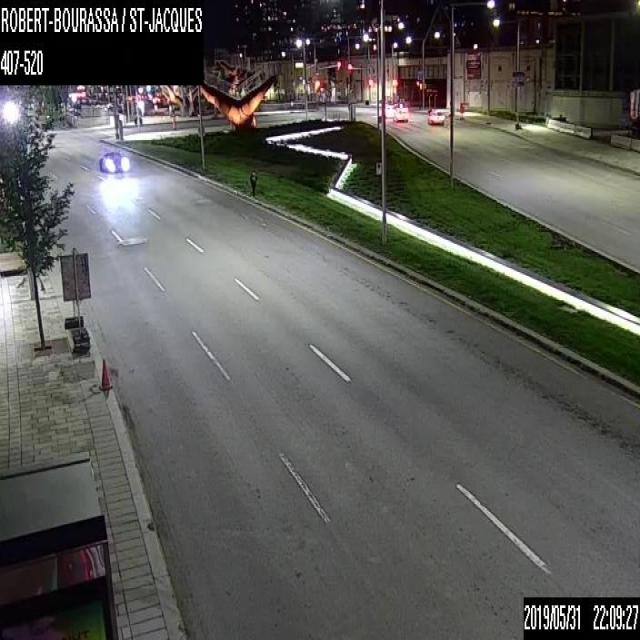construction: (100, 357, 111, 388)
pedestrian: (248, 167, 257, 197)
vehicle: (98, 149, 128, 175), (391, 101, 409, 123), (428, 106, 446, 126)
